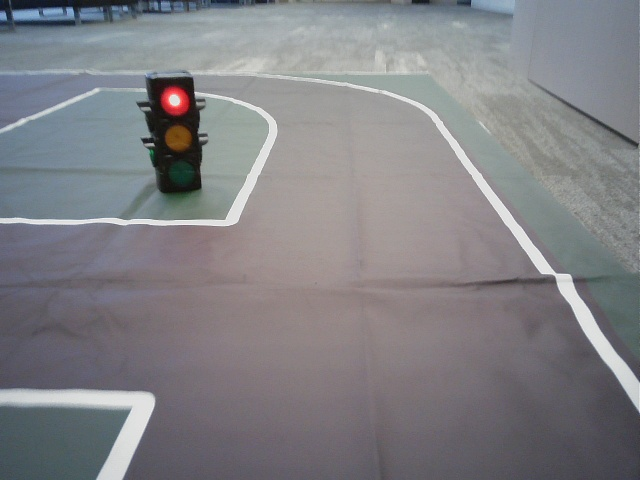red: (156, 83, 198, 186)
